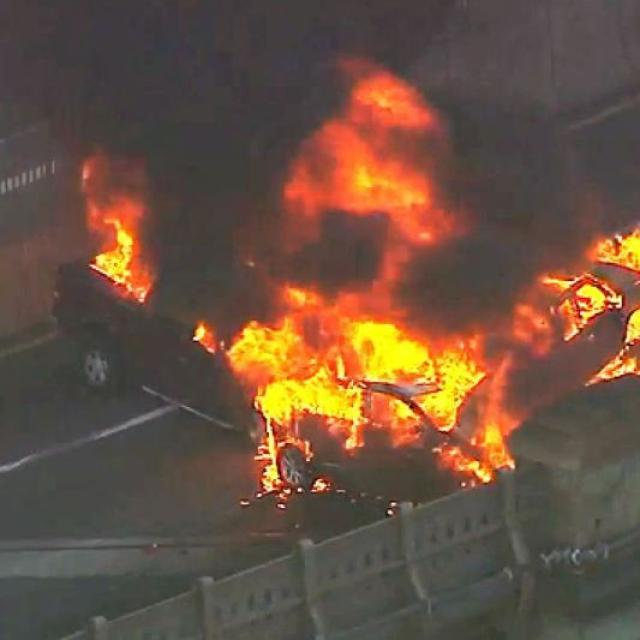Fire: (226, 286, 528, 502), (299, 63, 461, 282), (536, 228, 640, 399), (84, 176, 170, 318)
Smoke: (30, 0, 351, 154), (435, 120, 566, 299)
